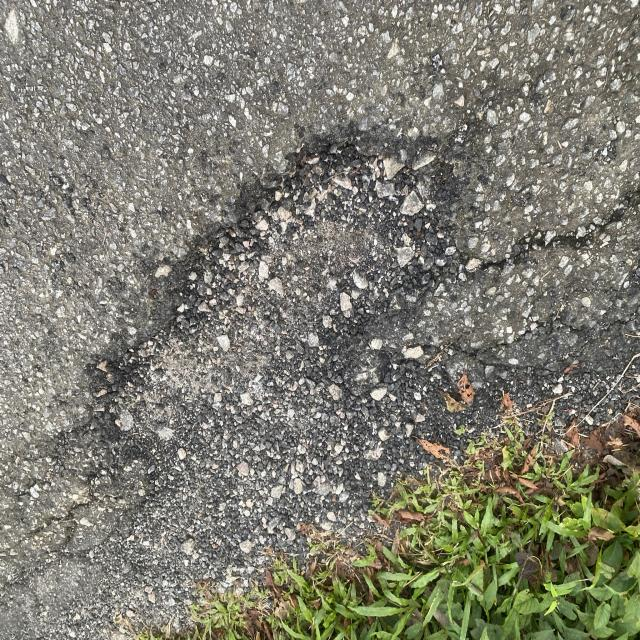pothole: (69, 120, 544, 406)
